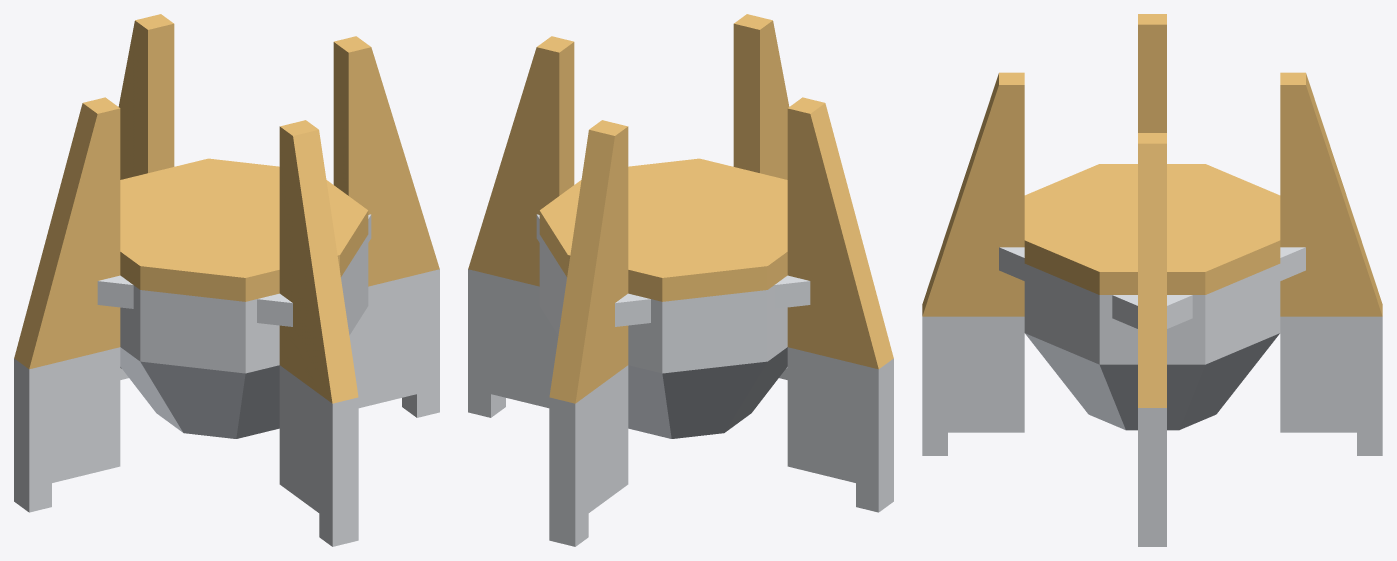
Rendered from rocket_baseA.glb.
The picture shows the model from 3 angles, left to right: view 1: azimuth 30°, elevation 25°; view 2: azimuth 150°, elevation 25°; view 3: azimuth 270°, elevation 25°; orthographic projection. The views are drawn at different scales.
Visible parts, largest first — view 1: rocket_baseA; view 2: rocket_baseA; view 3: rocket_baseA.
Part boxes in pixels (<box>): rocket_baseA: <box>14,14,439,546</box>; rocket_baseA: <box>468,14,893,546</box>; rocket_baseA: <box>922,14,1382,546</box>.
Size of the model in its own units: 1.8 by 1.6 by 1.8.
